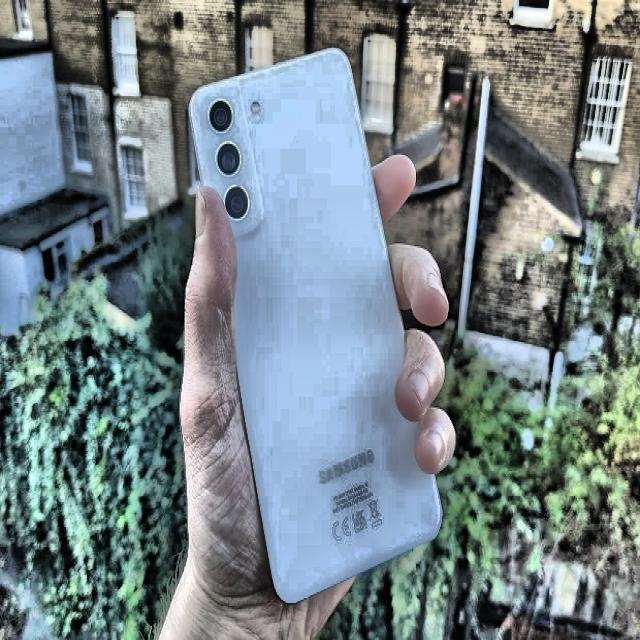Phone: (187, 45, 446, 602)
